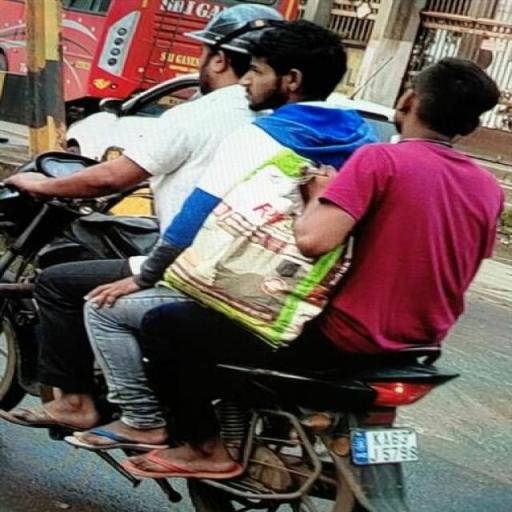tripple riding: (22, 4, 508, 284)
